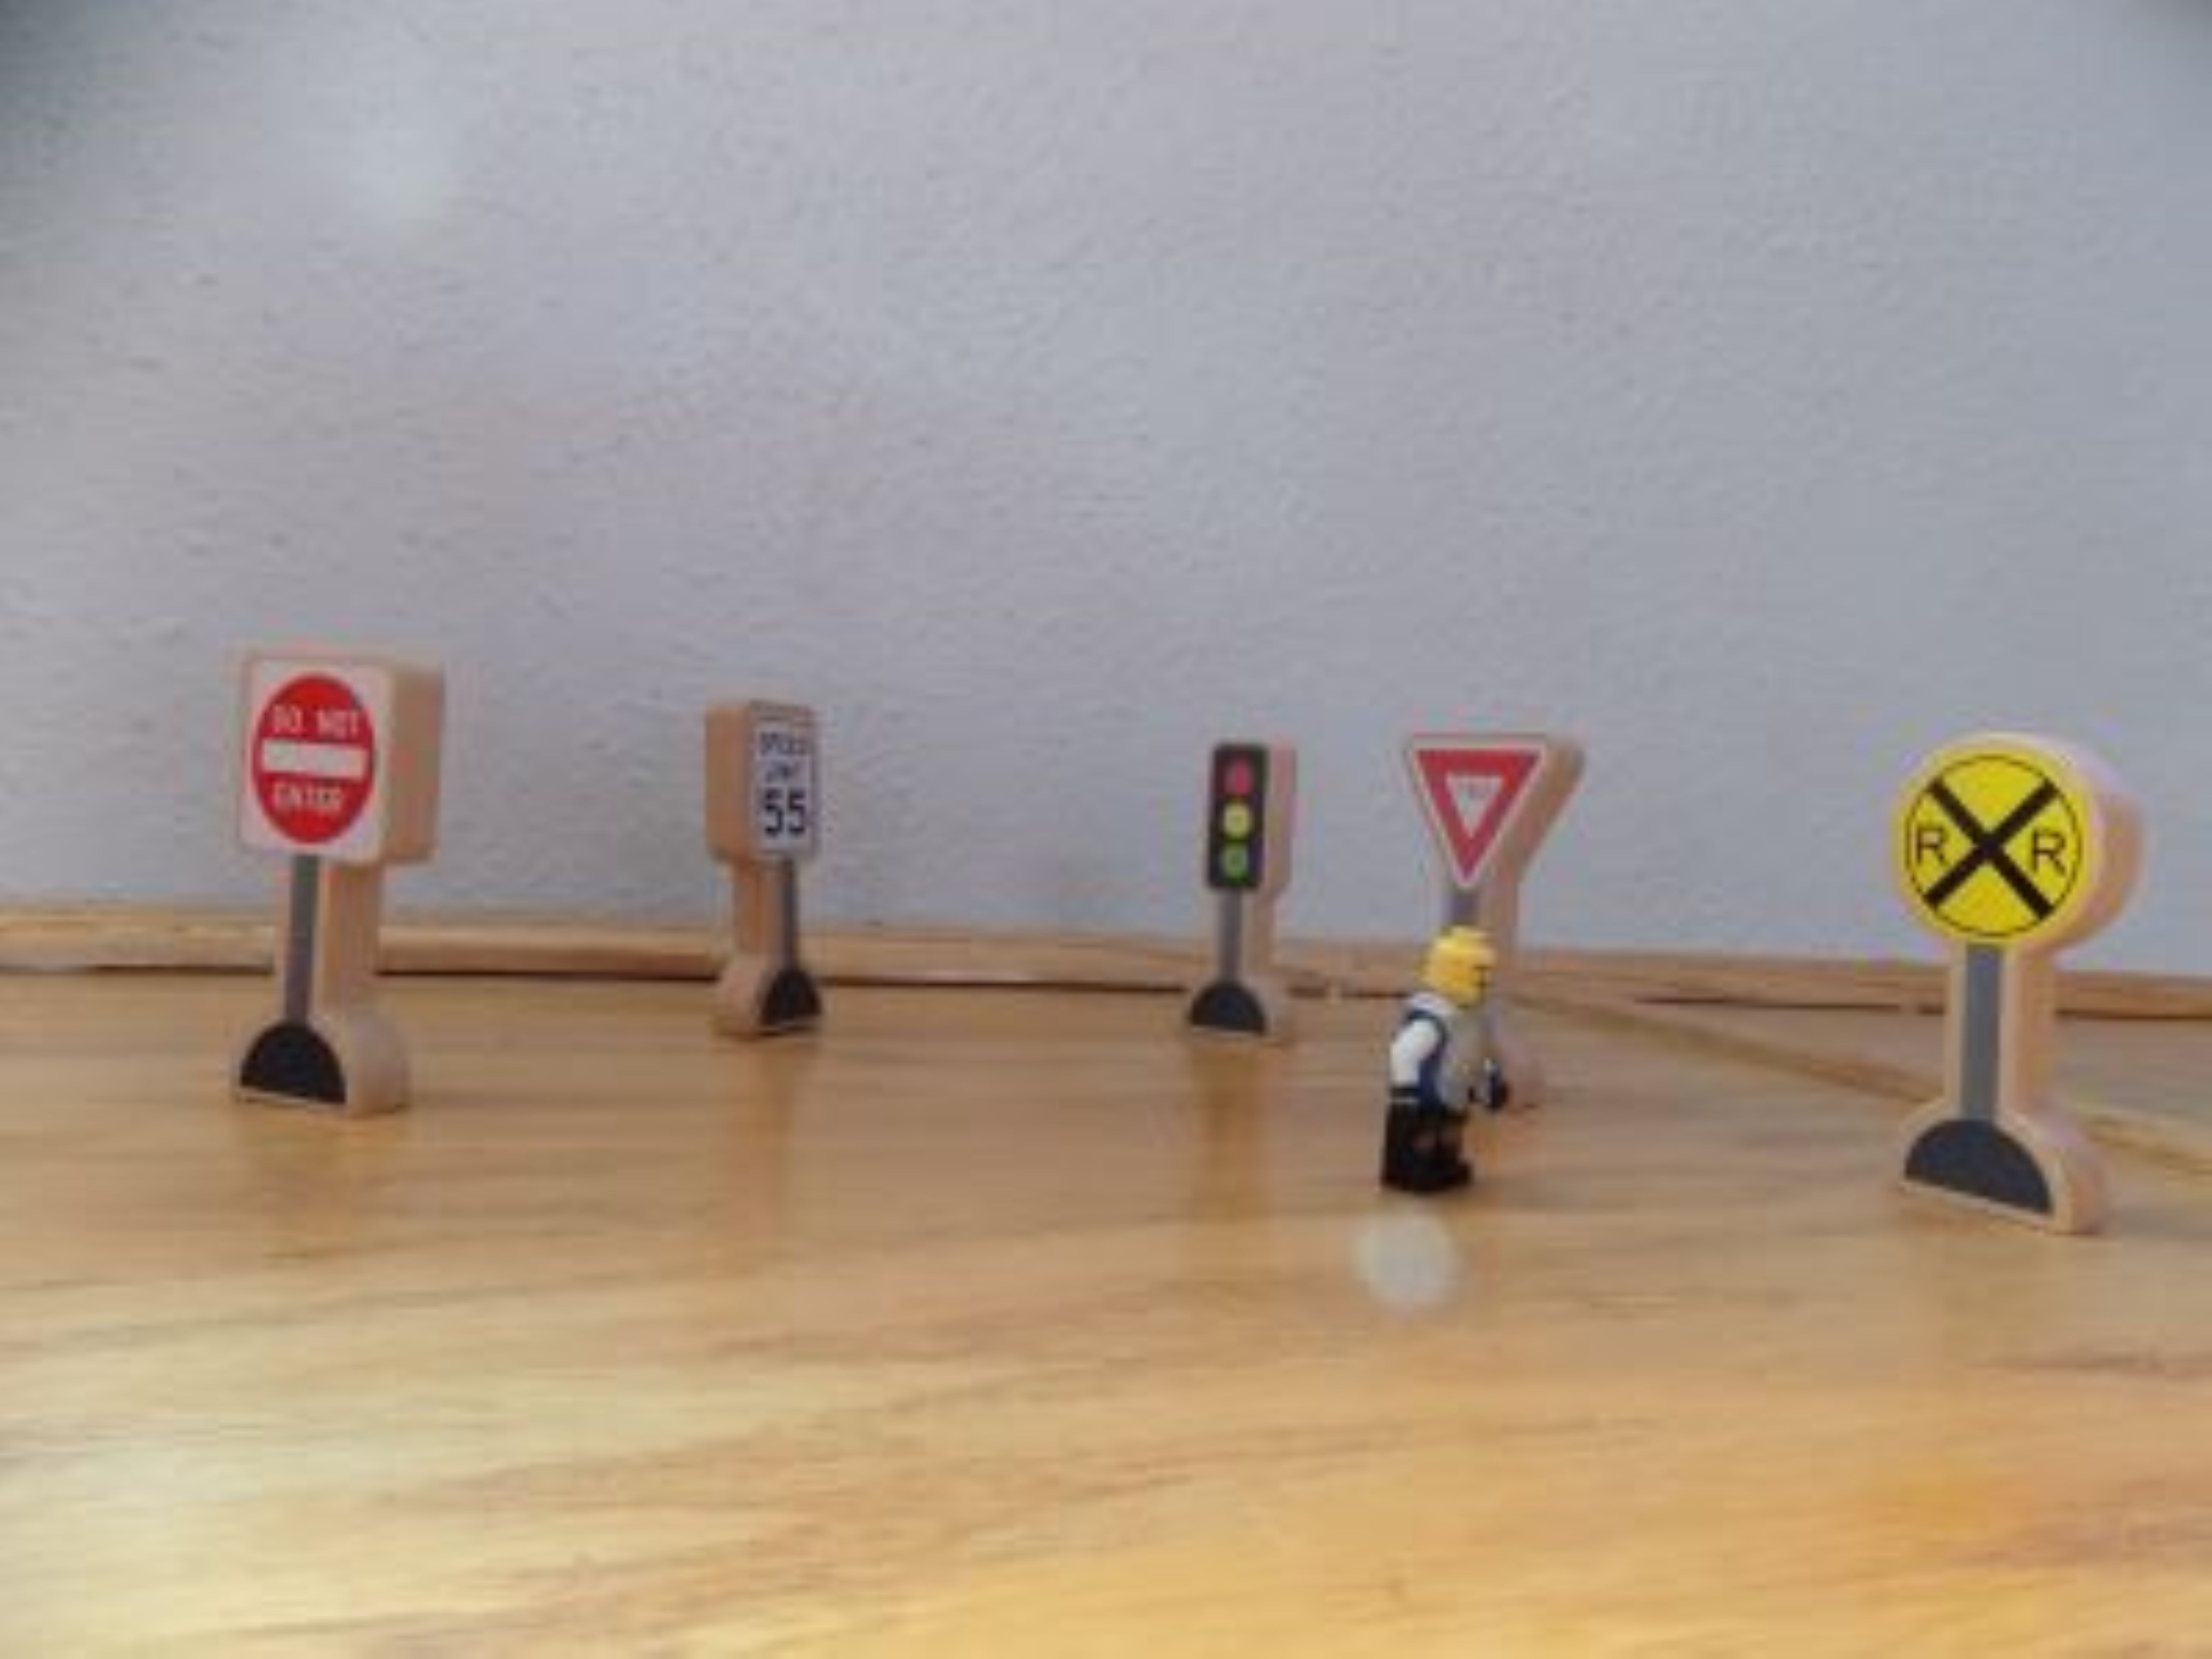Do Not Enter: (214, 634, 468, 902)
Person: (1382, 933, 1526, 1212)
Rail Road Sign: (1863, 735, 2149, 991)
Red Traffic Light: (1201, 745, 1292, 903)
Speed Limit 55: (679, 689, 861, 891)
Yield Sign: (1401, 732, 1562, 902)
